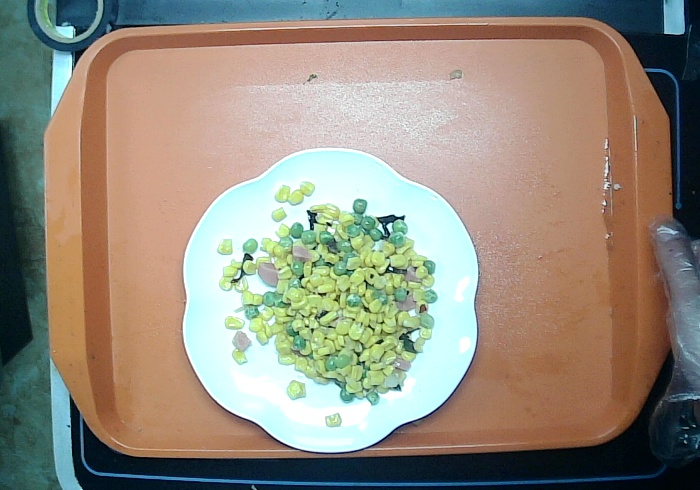HZYJPL-Bai_Se_Hua_Duo_Wan: (166, 134, 483, 457)
